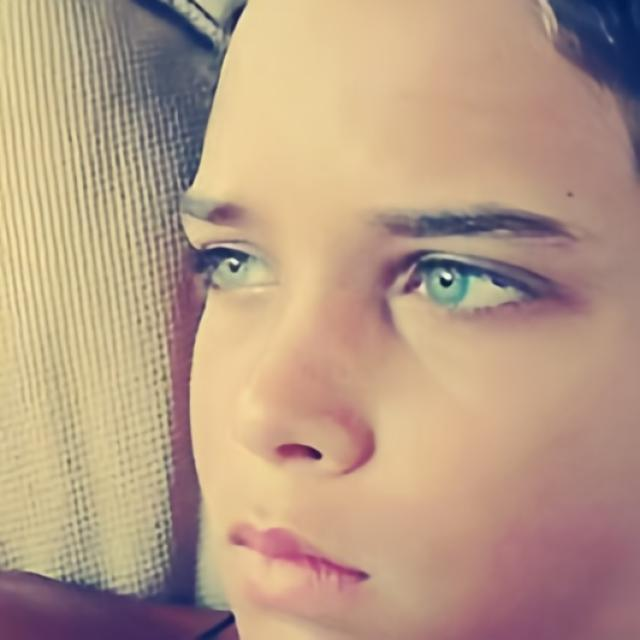sad: (172, 0, 640, 640)
